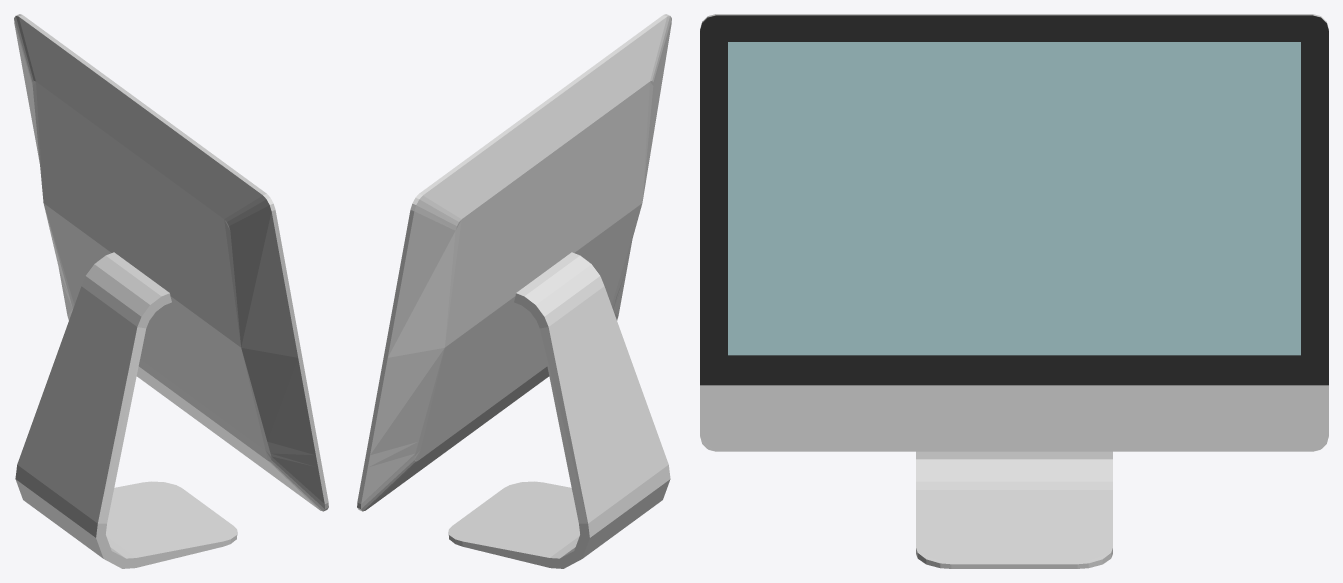
Rendered from Monitor.glb.
The picture shows the model from 3 angles, left to right: view 1: azimuth 30°, elevation 25°; view 2: azimuth 150°, elevation 25°; view 3: azimuth 270°, elevation 25°; orthographic projection. The views are drawn at different scales.
Parts seen in each view (by area): view 1: iMac; view 2: iMac; view 3: iMac.
Part boxes in pixels (box(x1,y1,x2,y2)): iMac: box(14, 14, 328, 568); iMac: box(357, 14, 671, 568); iMac: box(700, 14, 1328, 568).
Bounding box in the file's own units: 20.89 × 55.28 × 61.08.
1 material, 1 textured.
